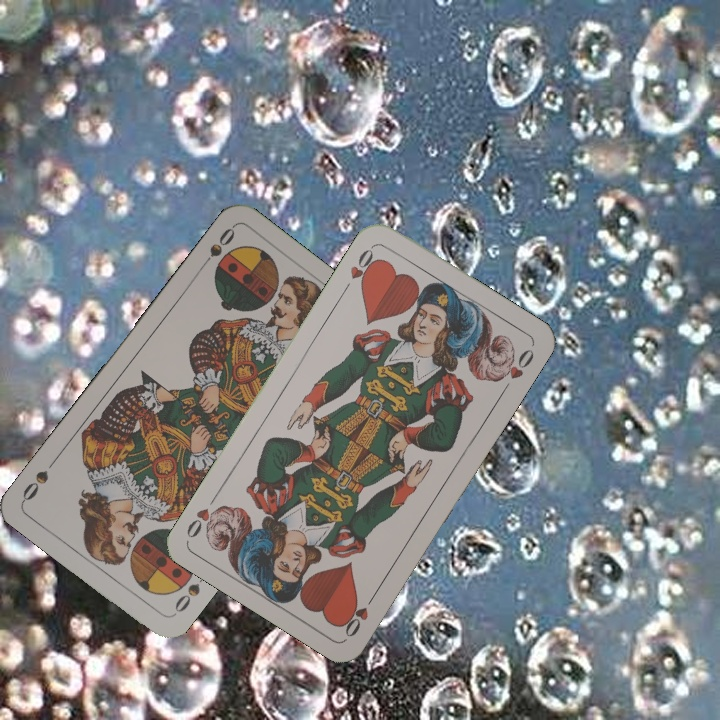HO: (338, 242, 381, 295), (339, 587, 380, 640)
SO: (195, 223, 238, 273), (169, 568, 210, 619)
